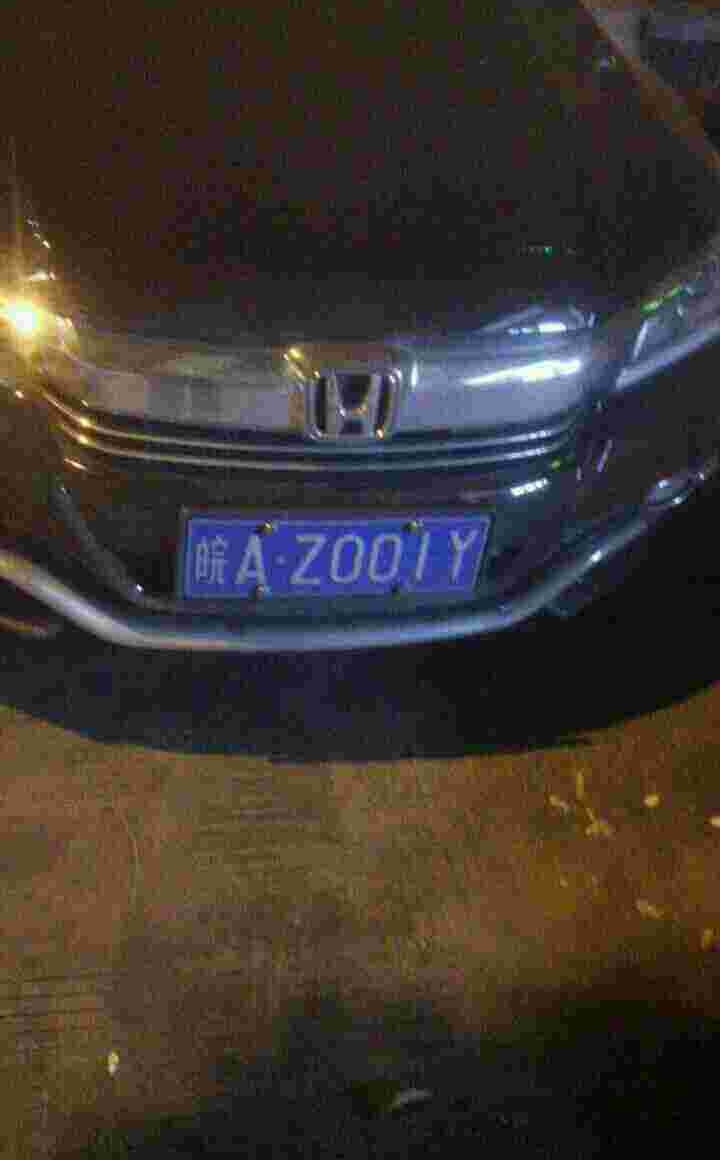license_plate: (194, 507, 486, 592)
